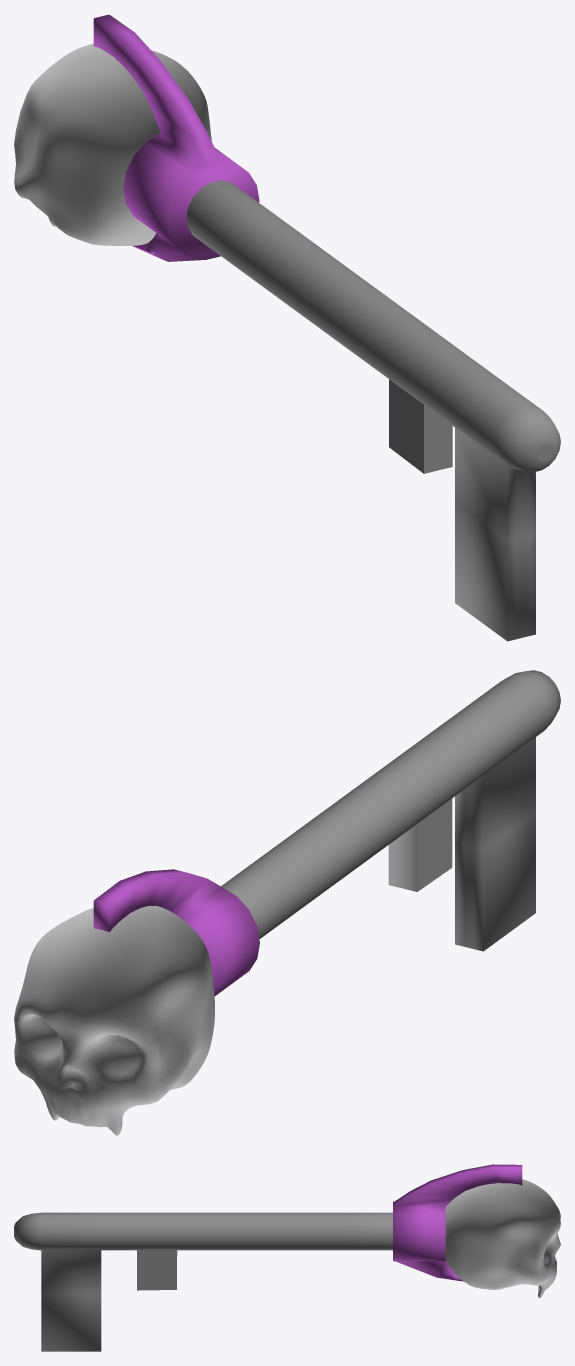
Rendered from midtier.fbx.
3 renders of one model, top to bottom at view 1: azimuth 30°, elevation 25°; view 2: azimuth 150°, elevation 25°; view 3: azimuth 270°, elevation 25°, orthographic. The views are drawn at different scales.
Parts seen in each view (by area): view 1: clé_mid:clé003, clé_mid:ZBrush_defualt_group002, clé_mid:Cylinder005; view 2: clé_mid:clé003, clé_mid:ZBrush_defualt_group002, clé_mid:Cylinder005; view 3: clé_mid:clé003, clé_mid:ZBrush_defualt_group002, clé_mid:Cylinder005.
Boxes of the visible parts, left/top/right/bottom form: clé_mid:clé003: left=186, top=180, right=560, bottom=641; clé_mid:ZBrush_defualt_group002: left=14, top=43, right=211, bottom=245; clé_mid:Cylinder005: left=93, top=14, right=259, bottom=261; clé_mid:clé003: left=221, top=670, right=560, bottom=951; clé_mid:ZBrush_defualt_group002: left=14, top=906, right=214, bottom=1135; clé_mid:Cylinder005: left=93, top=869, right=259, bottom=995; clé_mid:clé003: left=14, top=1212, right=392, bottom=1351; clé_mid:ZBrush_defualt_group002: left=445, top=1179, right=560, bottom=1298; clé_mid:Cylinder005: left=393, top=1164, right=522, bottom=1281.
Bounding box in the file's own units: 8 × 14.82 × 40.67.
